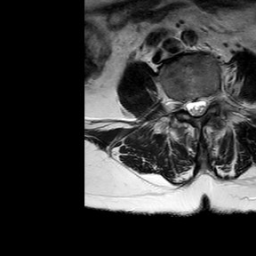CCS_normal: (193, 88, 200, 125)
LFS_normal: (209, 83, 217, 111)
LLS_normal: (200, 88, 209, 118)
RFS_normal: (176, 88, 185, 118)
RLS_normal: (185, 88, 193, 120)
